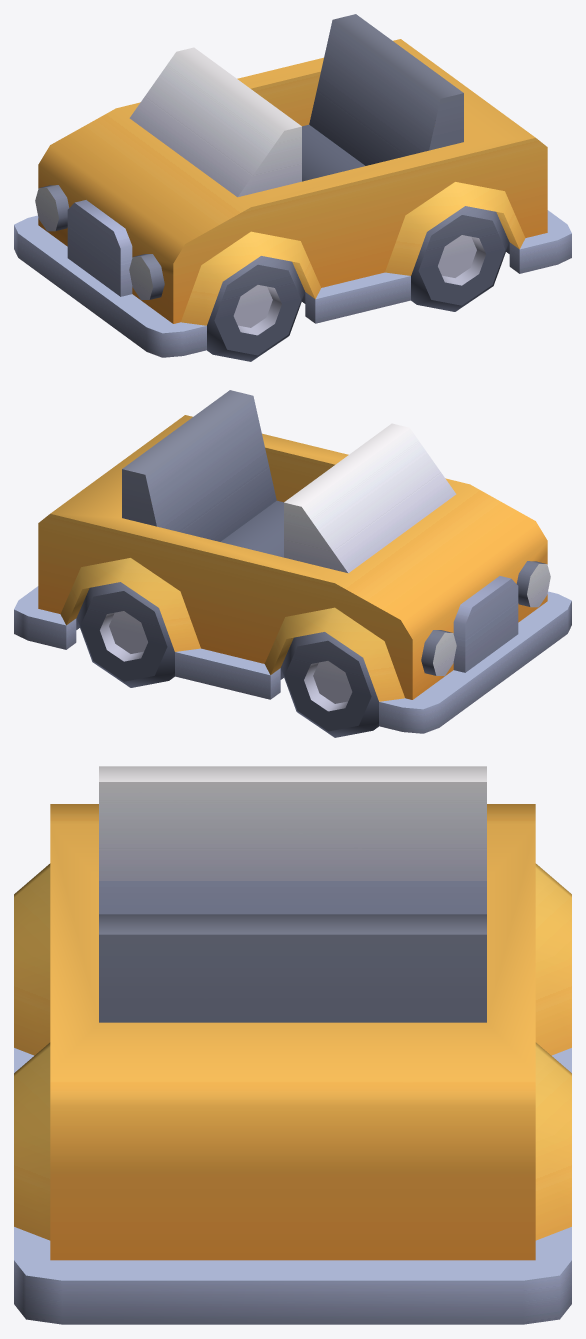
File: vehicle-convertible.glb
The picture shows the model from 3 angles, top to bottom: view 1: azimuth 30°, elevation 25°; view 2: azimuth 150°, elevation 25°; view 3: azimuth 270°, elevation 25°; orthographic projection. The views are drawn at different scales.
Parts seen in each view (by area): view 1: body, wheel-back-left, wheel-front-left; view 2: body, wheel-back-right, wheel-front-right; view 3: body.
Part boxes in pixels (bbox=[...]): body: bbox=[14, 14, 571, 357]; wheel-back-left: bbox=[411, 206, 509, 311]; wheel-front-left: bbox=[207, 256, 304, 361]; body: bbox=[14, 390, 571, 733]; wheel-back-right: bbox=[76, 582, 174, 687]; wheel-front-right: bbox=[281, 632, 378, 737]; body: bbox=[14, 766, 571, 1324].
Bounding box in the file's own units: 1.42 × 0.677 × 0.9085.
Materials: 1 (1 with a texture image).
